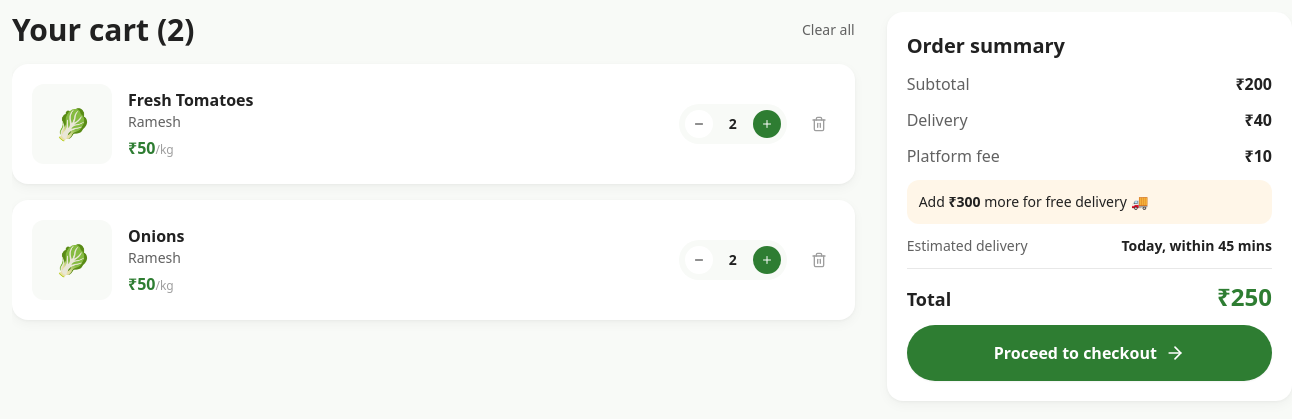
Test: CartPage — Remove & clear › clears all items when clear-all is clicked
Step 1. Click the button with test id "cart-clear-btn" → x=828, y=30, box [802, 20, 855, 40]
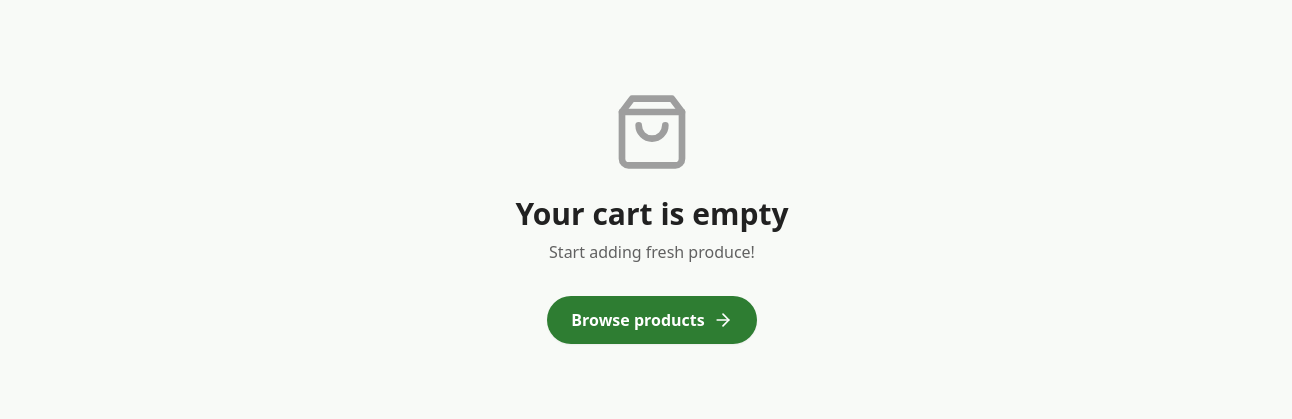
Result: the element with test id "cart-item" is gone
